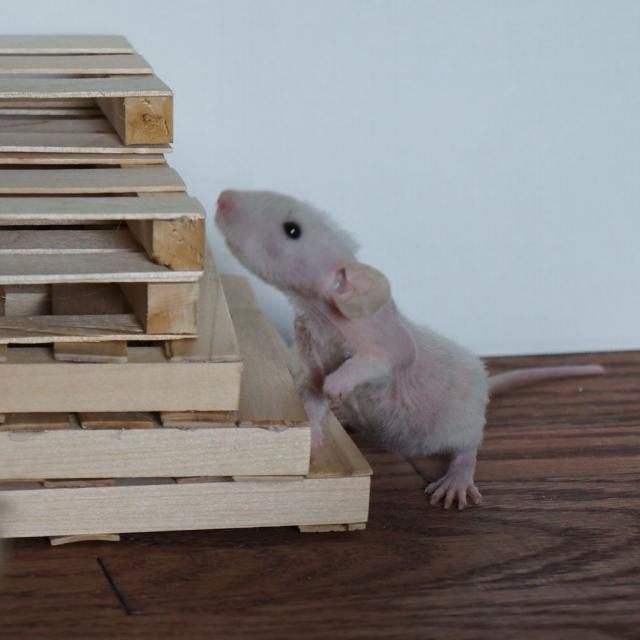rat: (212, 190, 604, 511)
